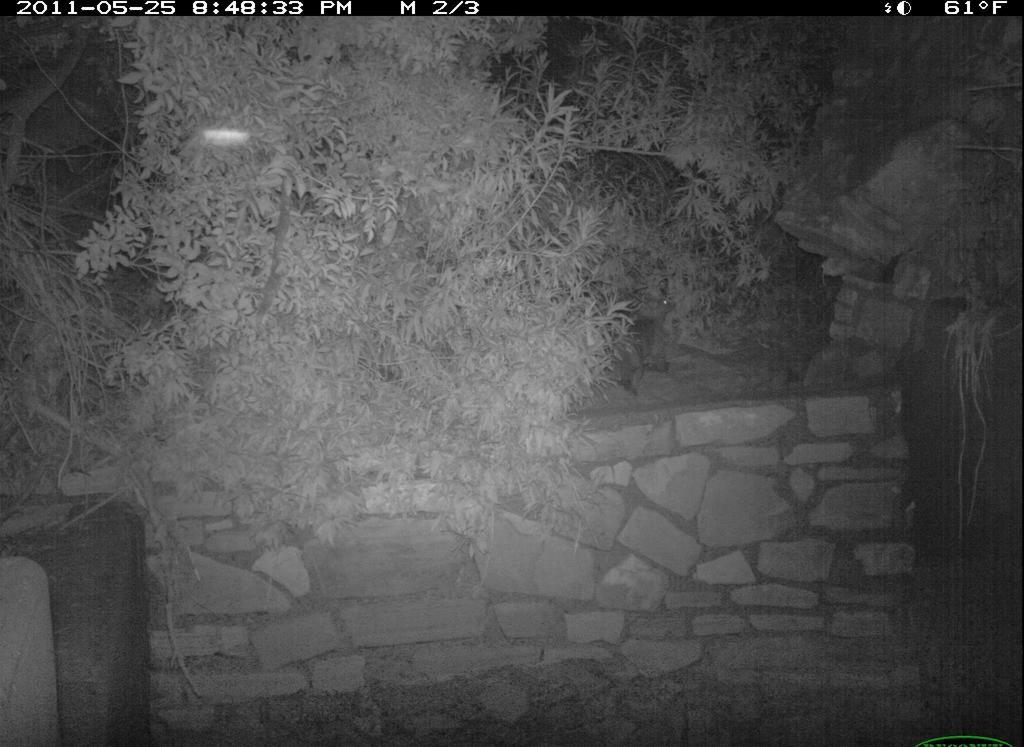cat: (600, 273, 687, 397)
